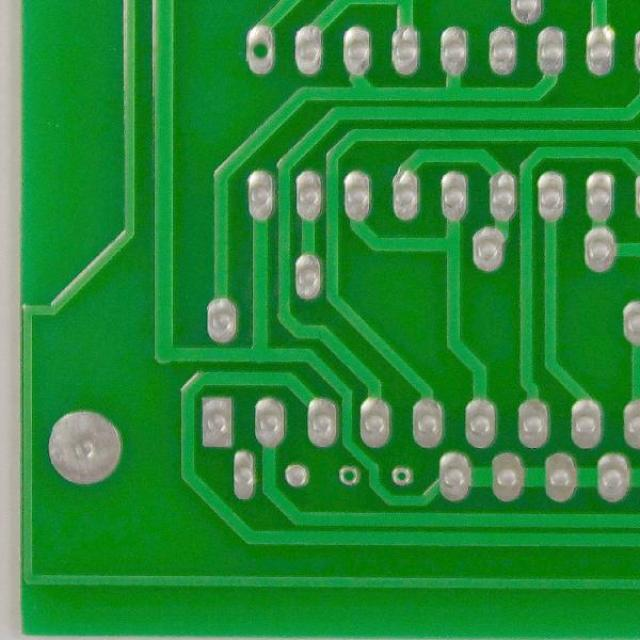Missing_Hole: (242, 21, 279, 77), (336, 463, 364, 486), (388, 465, 414, 488)
